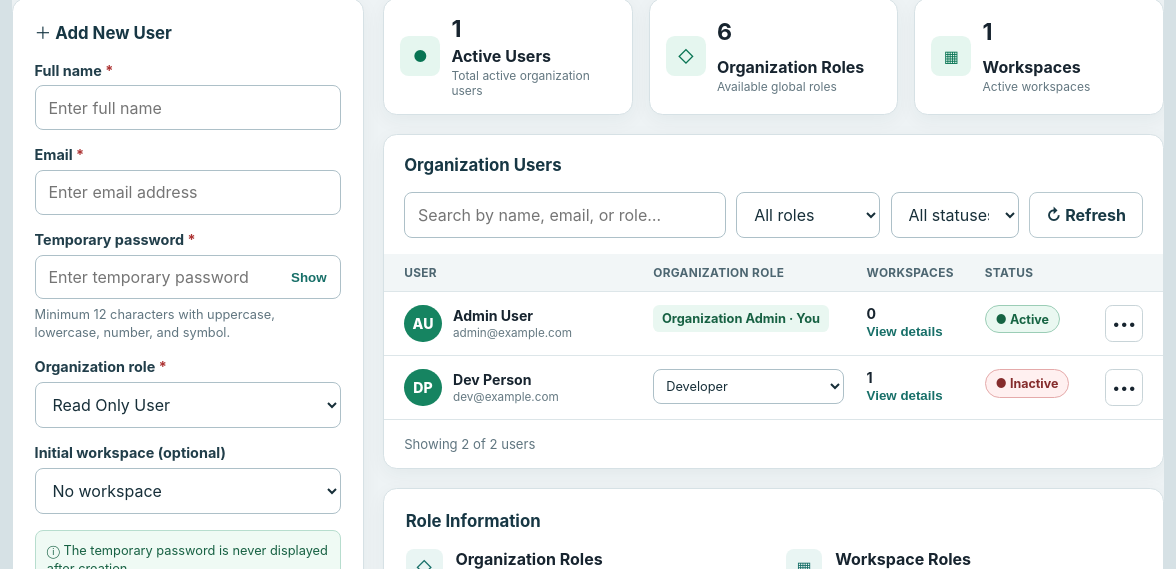
Test case: UsersAccessPage › shows workspace role only when a workspace is selected
Check: the text "Dev Person" is shown, box 453,371 -> 532,388
Select "ERP" in the dropdown labelled "Initial workspace (optional)" at (188, 491), box 35,468 -> 341,514
(page scrolled)
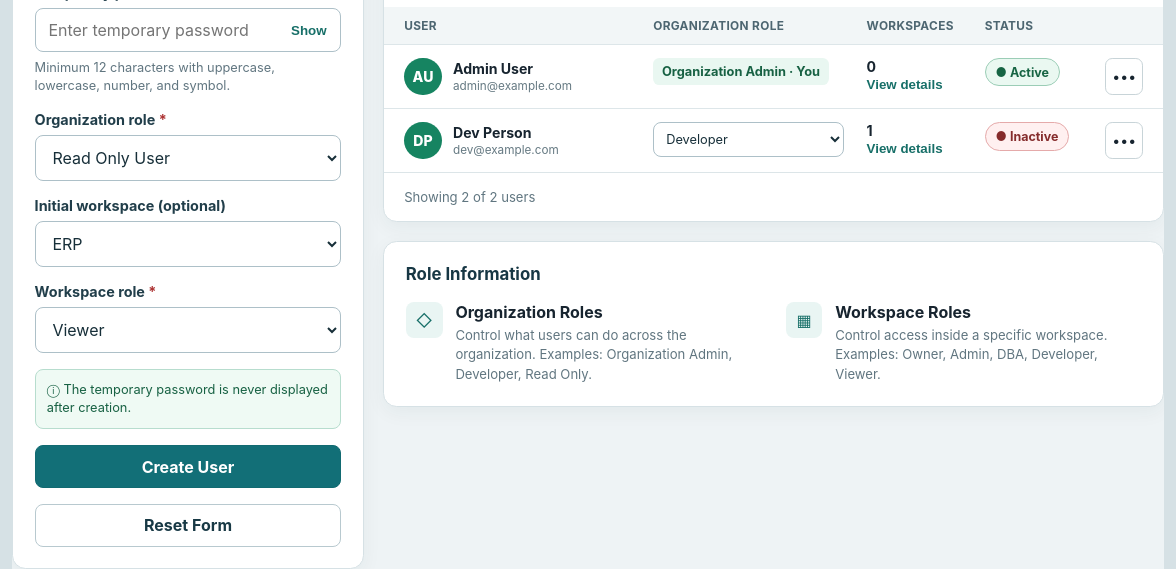
Check: the dropdown labelled "Workspace role *" is shown, box 35,307 -> 341,353
